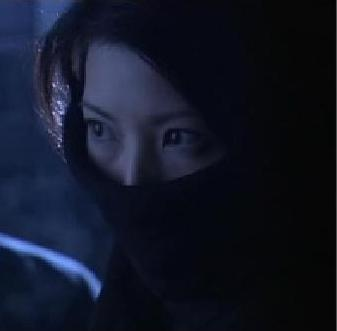WRONG: (66, 39, 290, 263)
